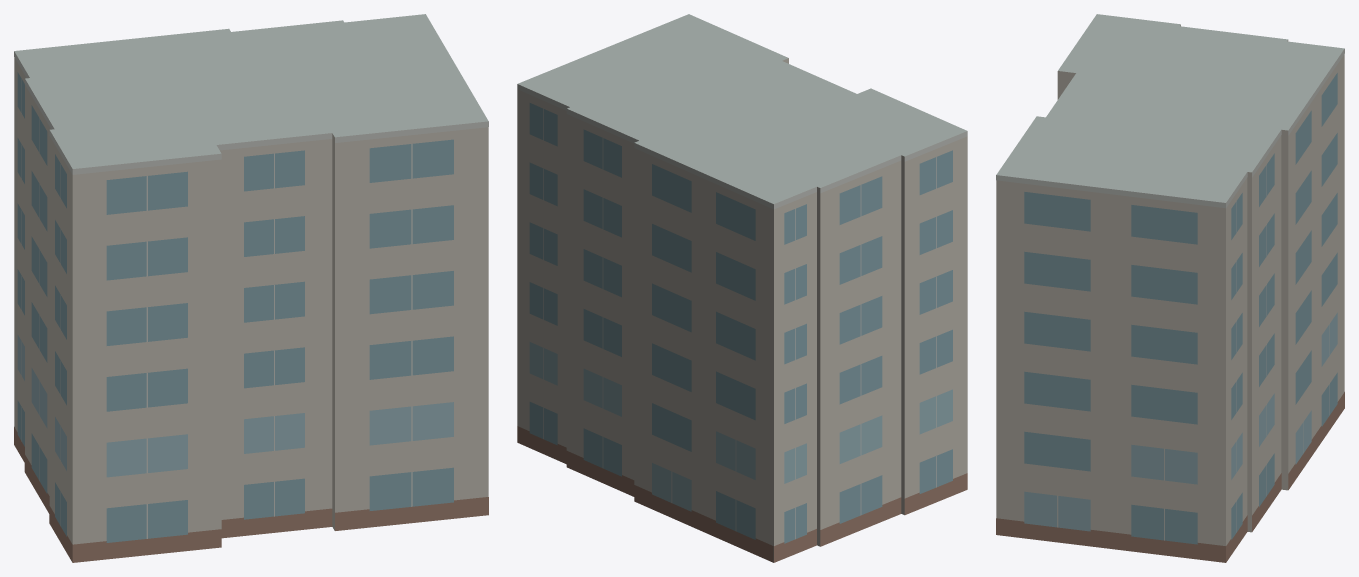
The model's file is survey-upis-32654576.glb.
3 views of the same model, side by side, from view 1: azimuth 30°, elevation 25°; view 2: azimuth 150°, elevation 25°; view 3: azimuth 270°, elevation 25° (orthographic). The views are drawn at different scales.
Parts seen in each view (by area): view 1: survey-upis-32654576.tmp; view 2: survey-upis-32654576.tmp; view 3: survey-upis-32654576.tmp.
Boxes of the visible parts, x1,y1,x2,y2 form: survey-upis-32654576.tmp: (14,14,488,562); survey-upis-32654576.tmp: (517,14,967,562); survey-upis-32654576.tmp: (996,14,1344,562).
Bounding box in the file's own units: 18.76 × 16.65 × 14.63.
